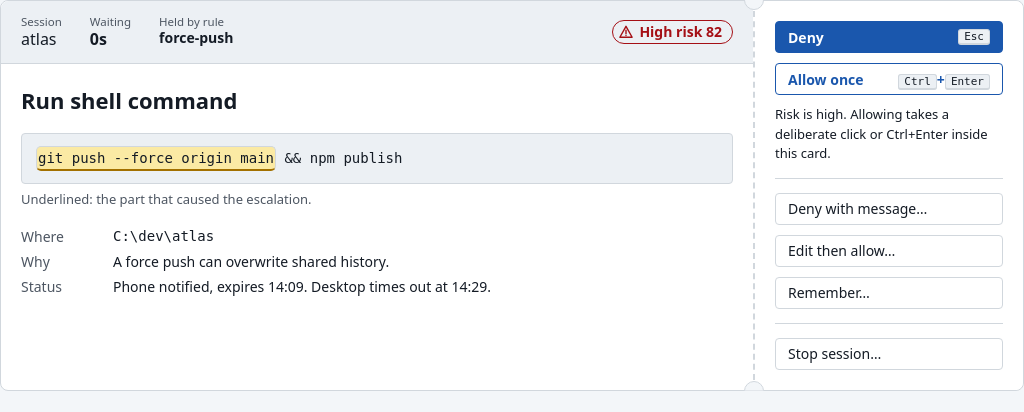
ApprovalCard › explains when nothing can be remembered
Click the button "Remember…" at (889, 292), box [775, 276, 1003, 308]
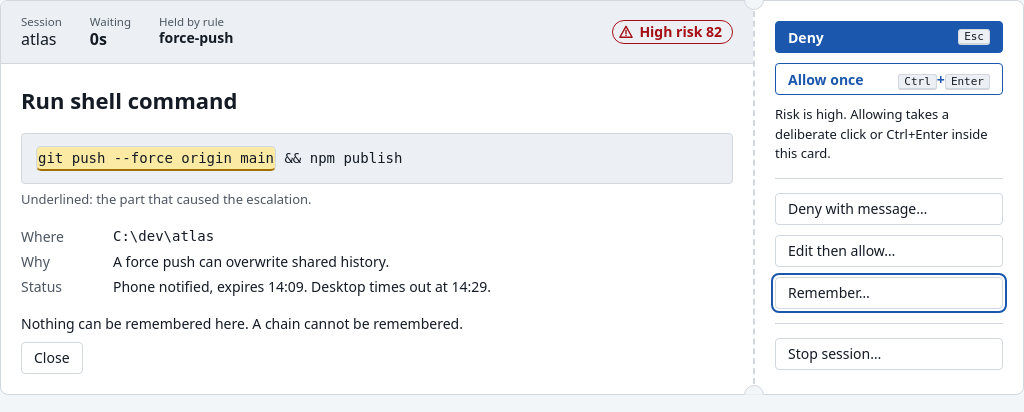
Check: the text "A chain cannot be remembered" is shown, box [252, 314, 463, 333]
